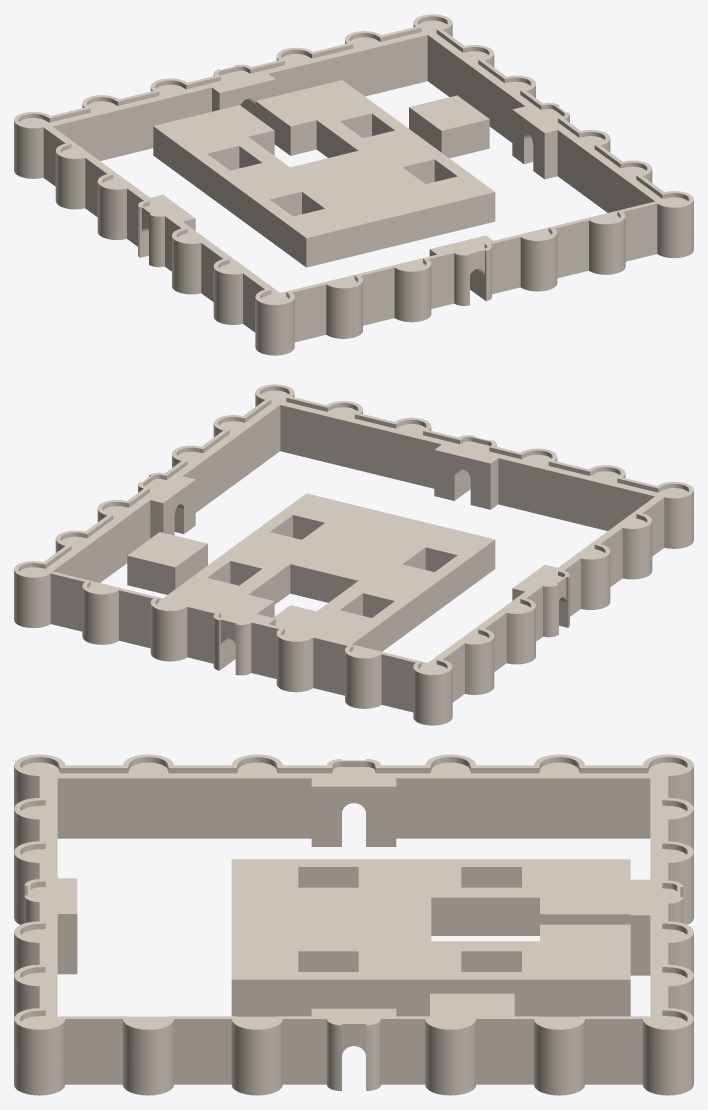
File: 7SN AL-AKIDER.glb
3 views of the same model, one above another, from view 1: azimuth 30°, elevation 25°; view 2: azimuth 150°, elevation 25°; view 3: azimuth 270°, elevation 25° (orthographic). The views are drawn at different scales.
Visible parts, largest first — view 1: Geom3D; view 2: Geom3D; view 3: Geom3D.
Boxes of the visible parts, x1,y1,x2,y2 form: Geom3D: (14, 14, 693, 355); Geom3D: (14, 384, 693, 725); Geom3D: (14, 754, 693, 1095).
Bounding box in the file's own units: 6.36 × 0.708 × 6.64.
